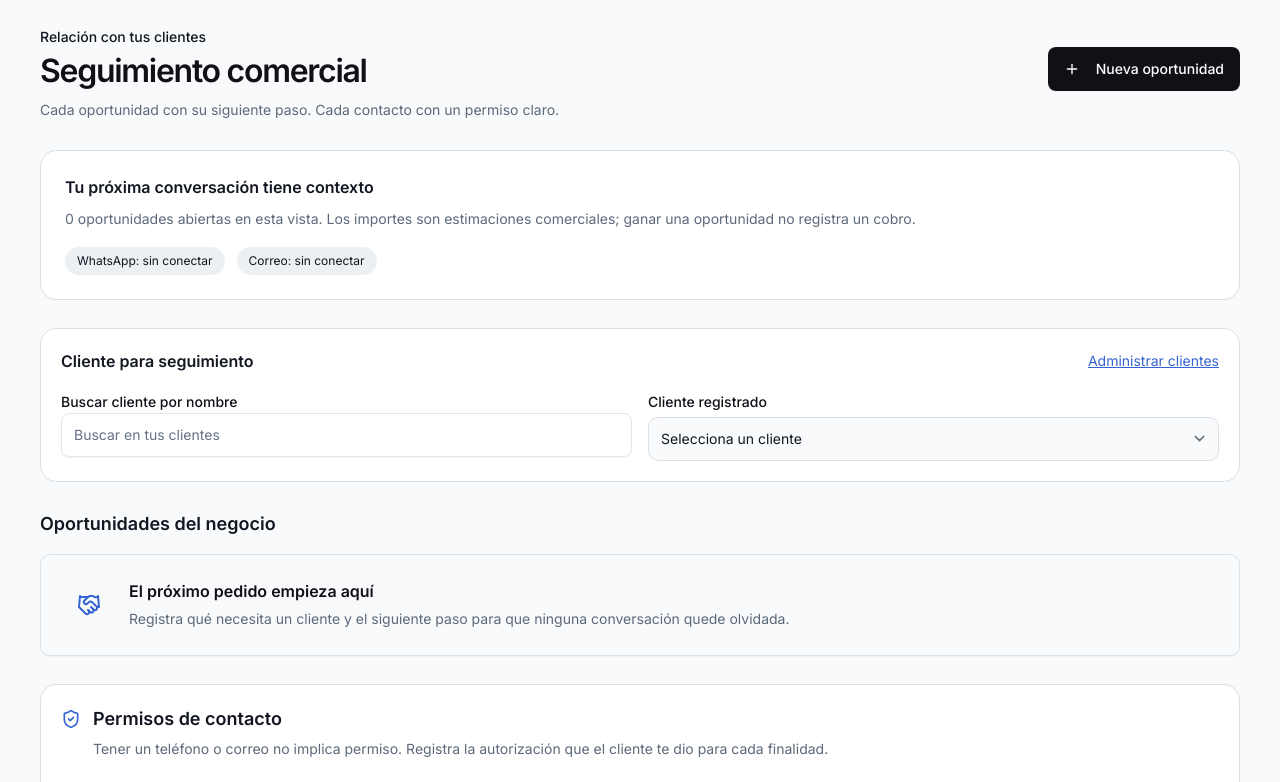
Test case: requires explicit customer permission and sends channel and purpose separately
Step 1. Select "Panadería del Centro" in the dropdown labelled "Cliente registrado" → (934, 439), box [648,417,1219,461]
(page scrolled)
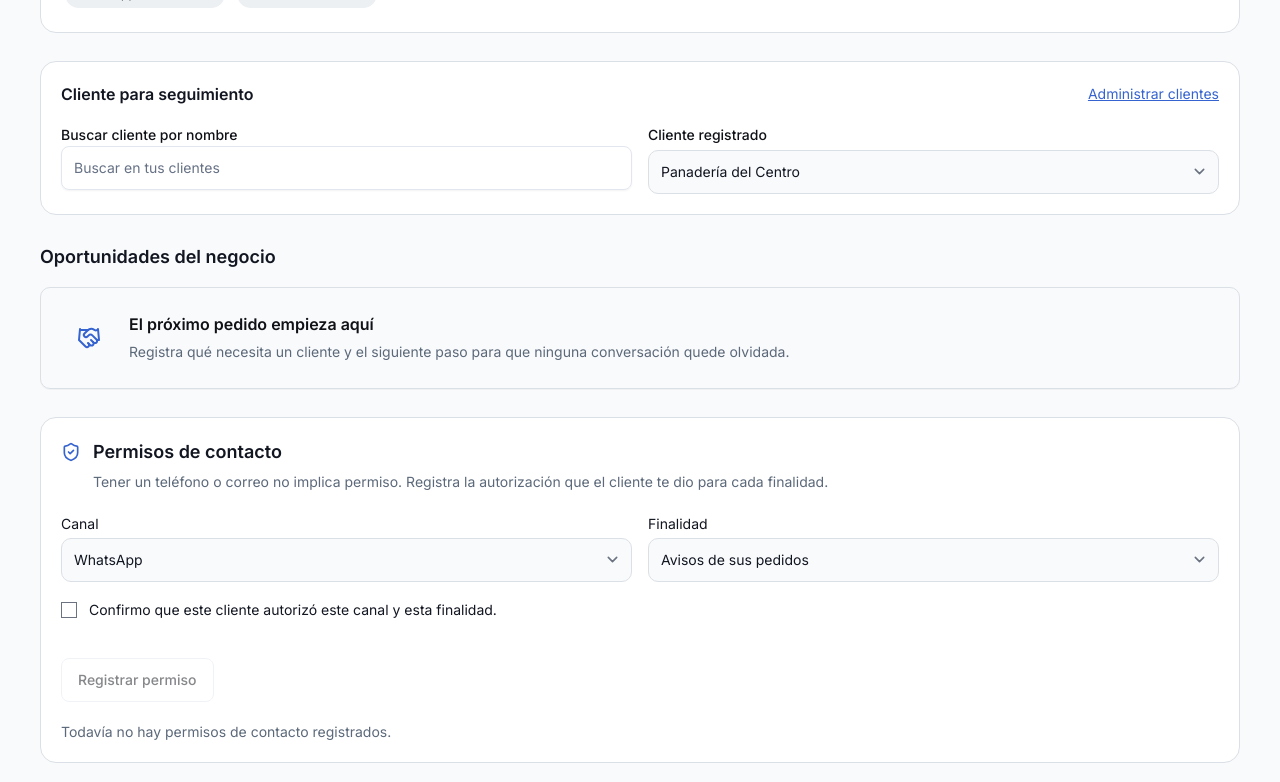
Expected: the button "Registrar permiso" is disabled, [61,658,214,702]
Expected: the checkbox labelled "Confirmo que este cliente" is enabled
Step 2. Click the checkbox labelled "Confirmo que este cliente" → click(69, 610), box [61,602,77,618]
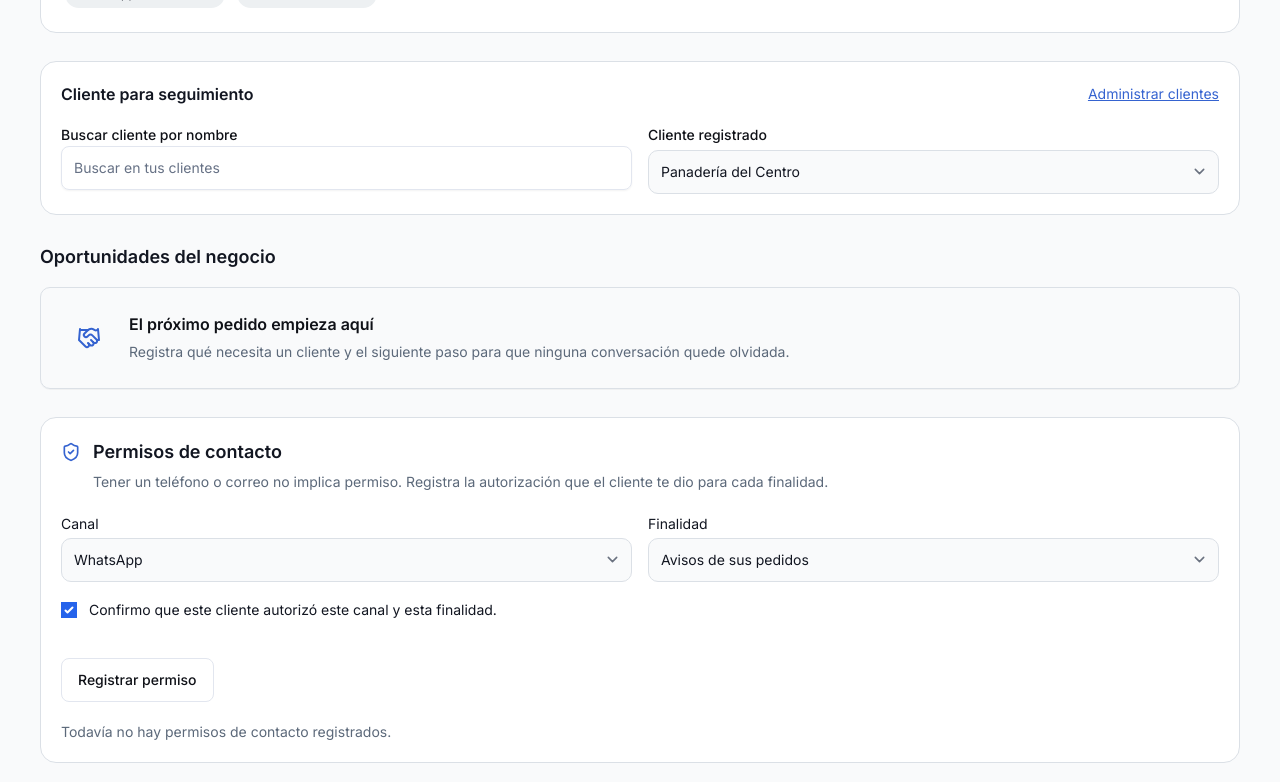
Step 3. Click the button "Registrar permiso" → click(137, 680), box [61,658,214,702]
(page scrolled)
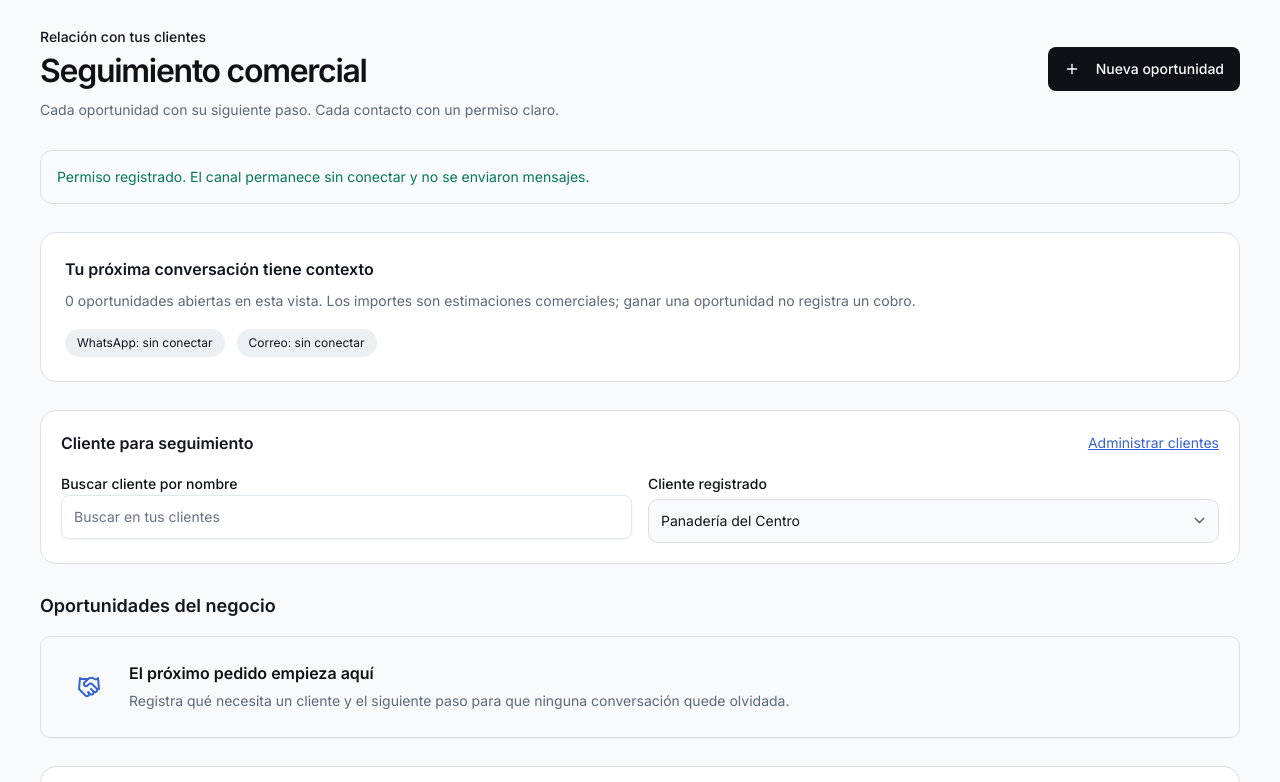
Expected: the text "Permiso registrado. El canal permanece sin conectar y no se enviaron mensajes." is shown, [40,150,1240,204]
